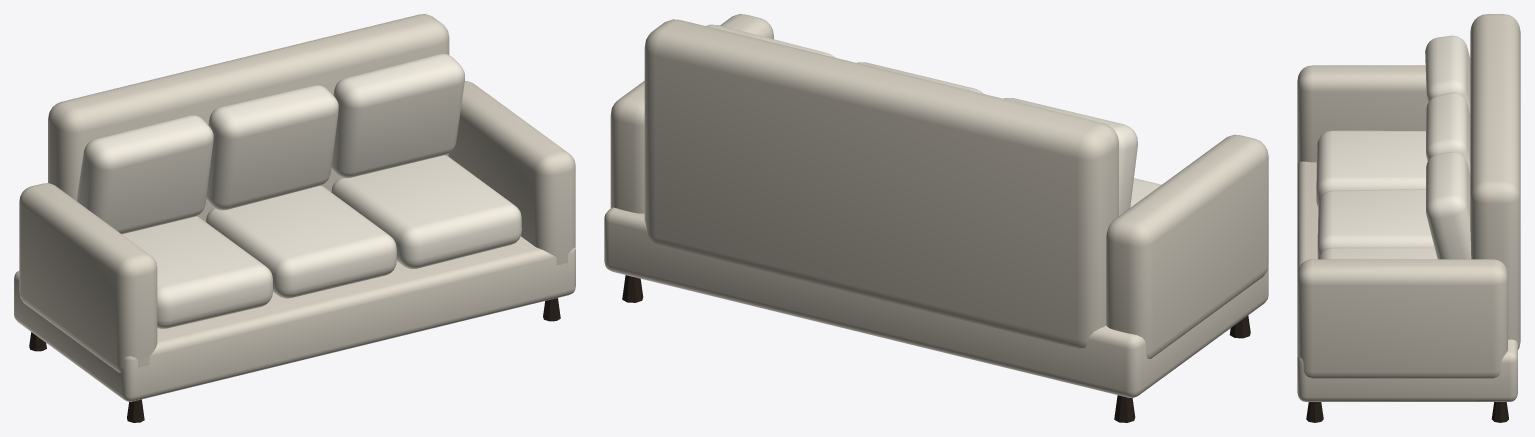
The model's file is sofa.glb.
The picture shows the model from 3 angles, left to right: view 1: azimuth 30°, elevation 25°; view 2: azimuth 150°, elevation 25°; view 3: azimuth 270°, elevation 25°; orthographic projection. The views are drawn at different scales.
Parts seen in each view (by area): view 1: sofa_base, sofa_back, sofa_arm, sofa_seat.002, sofa_seat.001, sofa_bk.001, sofa_bk.002, sofa_bk, sofa_arm.001, sofa_seat; view 2: sofa_back, sofa_base, sofa_arm, sofa_arm.001, sofa_bk; view 3: sofa_arm.001, sofa_back, sofa_arm, sofa_base, sofa_seat, sofa_seat.001, sofa_bk.002, sofa_bk.001, sofa_bk, sofa_seat.002, sofa_leg.002, sofa_leg.003.
Part boxes in pixels (bbox=[...]): sofa_base: bbox=[14, 236, 575, 401]; sofa_back: bbox=[48, 14, 449, 221]; sofa_arm: bbox=[19, 183, 157, 372]; sofa_seat.002: bbox=[331, 155, 521, 268]; sofa_seat.001: bbox=[206, 185, 396, 298]; sofa_bk.001: bbox=[206, 85, 338, 210]; sofa_bk.002: bbox=[331, 53, 464, 178]; sofa_bk: bbox=[77, 115, 213, 234]; sofa_arm.001: bbox=[448, 81, 575, 265]; sofa_seat: bbox=[122, 216, 272, 328]; sofa_back: bbox=[644, 19, 1118, 348]; sofa_base: bbox=[604, 207, 1268, 397]; sofa_arm: bbox=[1106, 134, 1268, 358]; sofa_arm.001: bbox=[610, 14, 773, 213]; sofa_bk: bbox=[1003, 98, 1137, 215]; sofa_arm.001: bbox=[1297, 259, 1507, 378]; sofa_back: bbox=[1470, 14, 1520, 349]; sofa_arm: bbox=[1297, 65, 1427, 163]; sofa_base: bbox=[1297, 161, 1517, 401]; sofa_seat: bbox=[1316, 130, 1427, 207]; sofa_seat.001: bbox=[1317, 189, 1434, 258]; sofa_bk.002: bbox=[1426, 152, 1471, 259]; sofa_bk.001: bbox=[1426, 92, 1470, 173]; sofa_bk: bbox=[1425, 35, 1470, 113]; sofa_seat.002: bbox=[1318, 247, 1437, 259]; sofa_leg.002: bbox=[1306, 402, 1323, 422]; sofa_leg.003: bbox=[1491, 402, 1508, 422].
Bounding box in the file's own units: 2 × 0.99 × 0.89.
